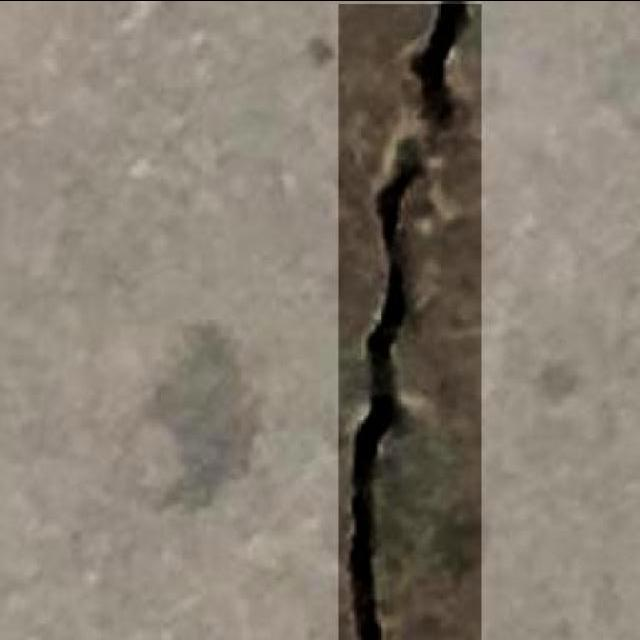SurfaceCrack: (316, 0, 500, 640)
